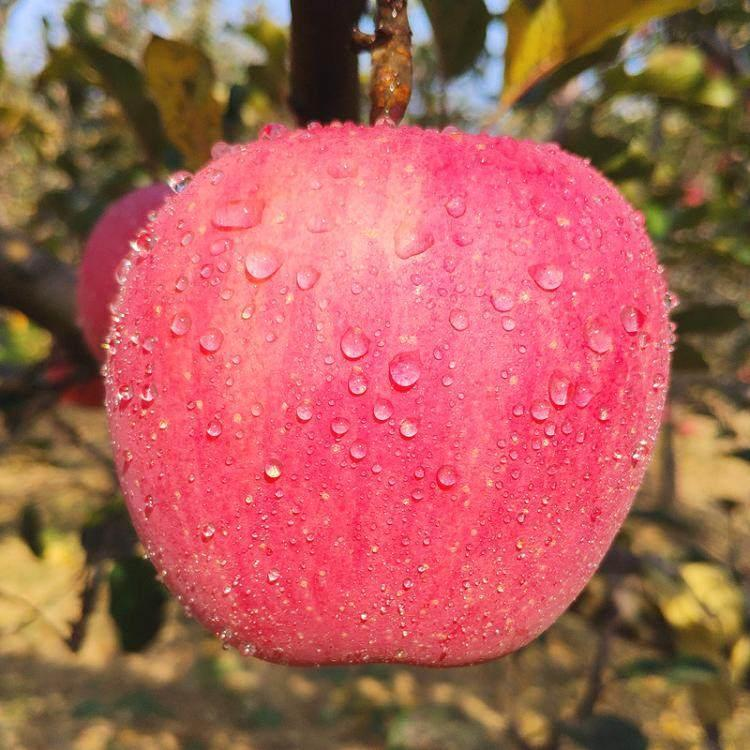apple: (102, 119, 676, 658)
